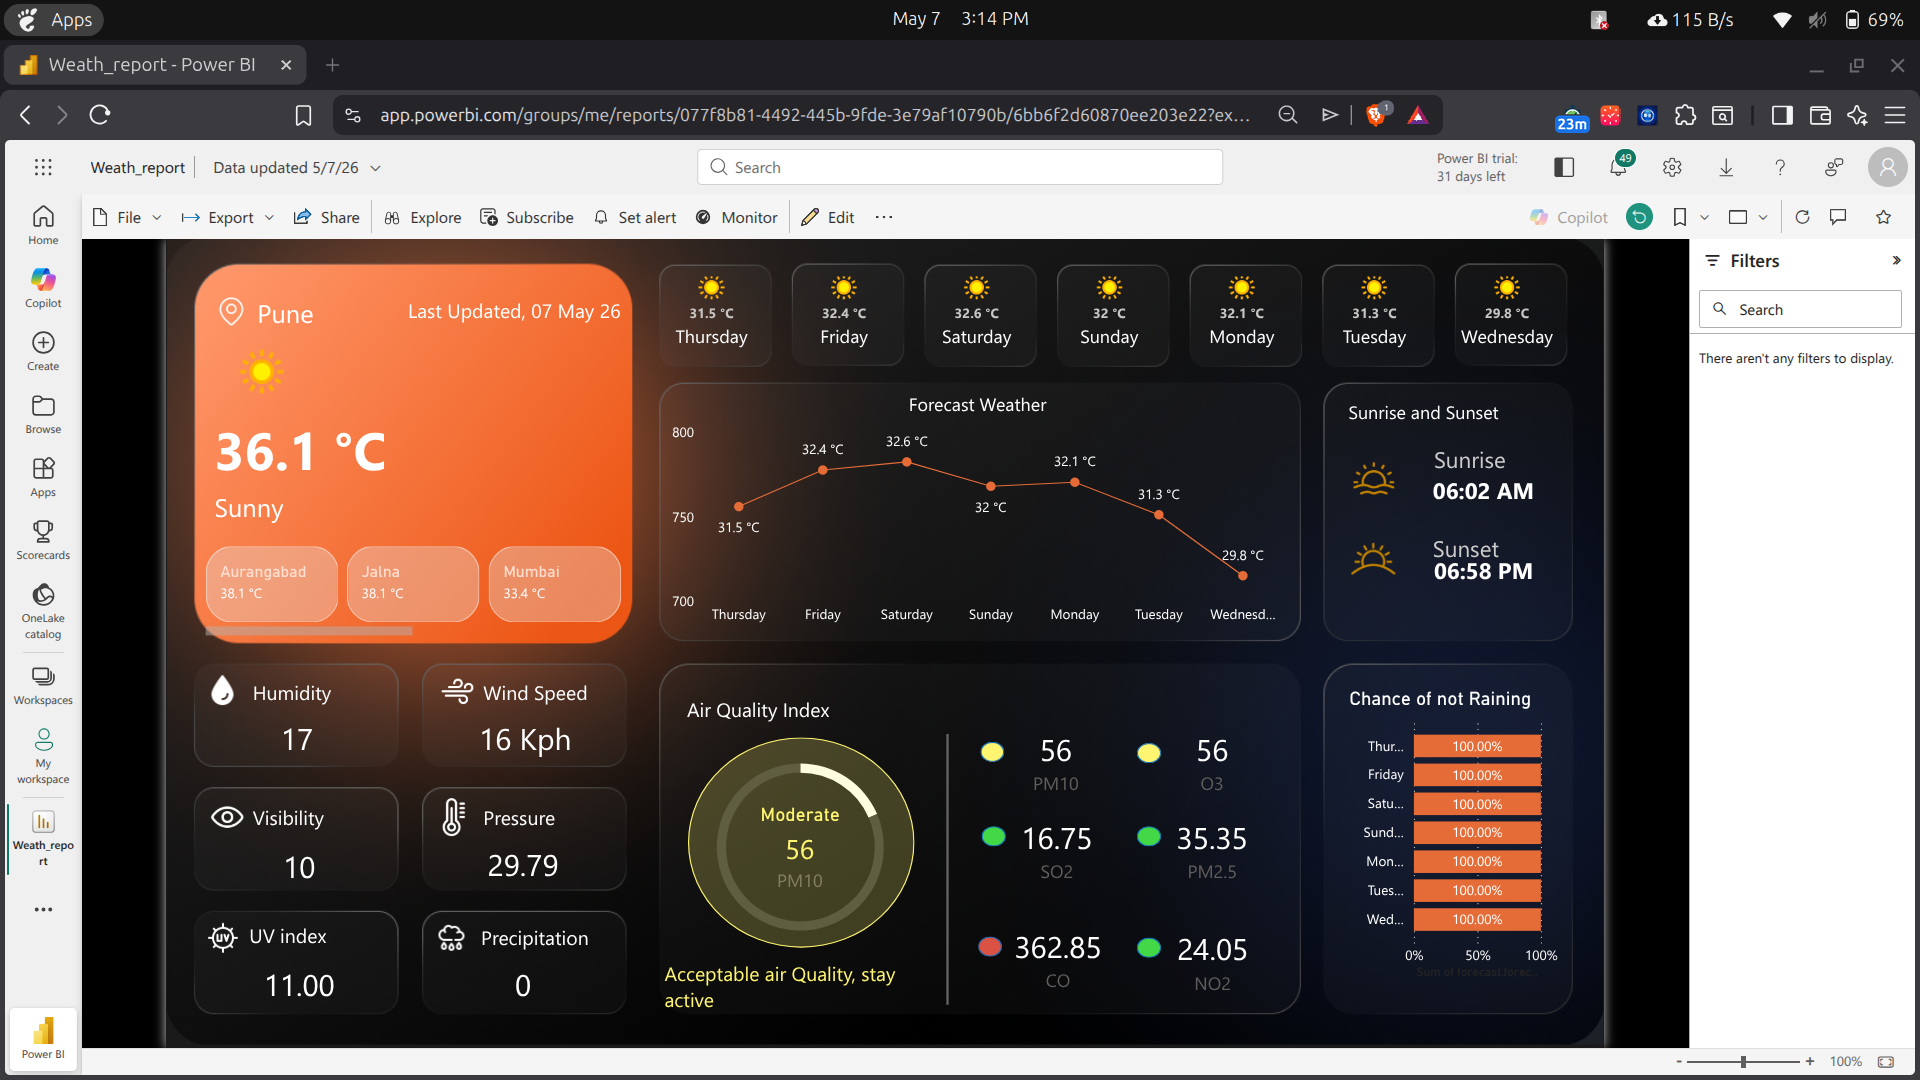

This screenshot's page, from the dashboard's own definition file:
{"tool":"powerbi","page":{"name":"Page 1","canvas":[1280,720],"ordinal":0},"visuals":[{"type":"advancedSlicerVisual","fields":{"Values":["location.location.name"]},"box":[30,268.7,381.4,91.2],"z":0},{"type":"shape","box":[43.2,135.5,217.1,103.2],"z":1000},{"type":"shape","box":[43.2,221.9,166.7,32.4],"z":2000},{"type":"shape","box":[206.3,44.4,207.5,38.4],"z":3000},{"type":"shape","box":[81.6,49.2,141.5,33.6],"z":4000},{"type":"image","box":[34.8,51.6,46.8,25.2],"z":5000},{"type":"cardVisual","fields":{"Data":["Min(Current_data.current.condition.icon)"]},"box":[19.2,66,133.1,104.4],"z":6000},{"type":"image","box":[34.8,497.8,39.6,33.6],"z":7000},{"type":"image","box":[36,385,28.8,32.4],"z":8000},{"type":"image","box":[236.3,387.4,45.6,30],"z":9000},{"type":"image","box":[231.5,497.8,50.4,33.6],"z":10000},{"type":"image","box":[24,608.1,52.8,28.8],"z":11000},{"type":"image","box":[236.3,608.1,36,28.8],"z":12000},{"type":"shape","box":[76.8,385,123.5,34.8],"z":13000},{"type":"shape","box":[281.9,385,123.5,34.8],"z":14000},{"type":"shape","box":[76.8,496.6,123.5,34.8],"z":15000},{"type":"shape","box":[281.9,496.6,123.5,34.8],"z":16000},{"type":"shape","box":[74.4,602.2,123.5,34.8],"z":17000},{"type":"shape","box":[280.7,603.3,123.5,34.8],"z":18000},{"type":"shape","box":[586.6,238.7,217.1,103.2],"z":19000},{"type":"cardVisual","fields":{"Data":["Sum(Current_data.current.humidity)"]},"box":[34.8,417.4,163.1,51.6],"z":20000},{"type":"cardVisual","fields":{"Data":["_Measures.Wind_Speed"]},"box":[236.3,417.4,167.9,51.6],"z":21000},{"type":"cardVisual","fields":{"Data":["Sum(Current_data.current.uv)"]},"box":[37.2,636.9,163.1,51.6],"z":22000},{"type":"cardVisual","fields":{"Data":["Sum(Current_data.current.pressure_in)"]},"box":[236.3,529,163.1,54],"z":23000},{"type":"cardVisual","fields":{"Data":["Sum(Current_data.current.precip_in)"]},"box":[236.3,636.9,163.1,51.6],"z":24000},{"type":"cardVisual","fields":{"Data":["Sum(Current_data.current.vis_km)"]},"box":[37.2,531.4,163.1,51.6],"z":25000},{"type":"advancedSlicerVisual","fields":{"Values":["Forecast_day.Day_Name"]},"box":[425.8,27.4,832.7,88.5],"z":26000},{"type":"lineChart","title":"Forecast Weather","fields":{"Y":["Sum(Forecast_day.forecast.forecastday.day.avgtemp_c)"],"Category":["Forecast_day.Day_Name"]},"box":[444.8,136,555.5,216.1],"z":27000},{"type":"shape","box":[1051.9,136,167.6,34.8],"z":28000},{"type":"shape","box":[1128.3,178,115.9,34.8],"z":29000},{"type":"shape","box":[1127.8,238.1,117,72.7],"z":30000},{"type":"shape","box":[1127.3,200.1,115.9,46.4],"z":31000},{"type":"shape","box":[1127.9,258.3,117,72.7],"z":32000},{"type":"image","box":[1051.9,195,45.3,35.8],"z":33000},{"type":"image","box":[1048.7,258.2,52.7,52.7],"z":34000},{"type":"hundredPercentStackedBarChart","title":"Chance of not Raining","fields":{"Y":["Sum(Forecast_day.forecast.forecastday.astro.is_moon_up)"],"Category":["Forecast_day.Day_Name"]},"box":[1048.7,401.6,195,261.4],"z":35000},{"type":"shape","box":[463.8,400.5,167.6,34.8],"z":36000},{"type":"cardVisual","title":"ihpipi","fields":{"Data":["Sum(Current_data.current.air_quality.o3)"]},"box":[862.5,426.1,138.7,78.9],"z":37000},{"type":"cardVisual","title":"ihpipi","fields":{"Data":["Sum(Current_data.current.air_quality.no2)"]},"box":[862.4,603.3,139.1,79.2],"z":38000},{"type":"cardVisual","title":"ihpipi","fields":{"Data":["Sum(Current_data.current.air_quality.pm2_5)"]},"box":[862.5,505,138.7,78.9],"z":39000},{"type":"cardVisual","title":"ihpipi","fields":{"Data":["Sum(Current_data.current.air_quality.pm10)"]},"box":[722.5,426.1,138.7,78.9],"z":40000},{"type":"cardVisual","title":"ihpipi","fields":{"Data":["Sum(Current_data.current.air_quality.so2)"]},"box":[723.8,505,138.7,78.9],"z":41000},{"type":"cardVisual","title":"ihpipi","fields":{"Data":["Sum(Current_data.current.air_quality.co)"]},"box":[725.1,601.7,138.7,78.9],"z":42000},{"type":"shape","box":[723,620.8,21.1,17.9],"z":43000},{"type":"shape","box":[725.2,448,21.1,17.9],"z":44000},{"type":"shape","box":[725.7,523,21.6,18],"z":45000},{"type":"shape","box":[863.6,448.6,21.6,18],"z":46000},{"type":"shape","box":[863.6,523,21.6,18],"z":47000},{"type":"shape","box":[863.6,621.3,21.6,18],"z":48000},{"type":"shape","box":[618.9,440.2,153.5,241.1],"z":49000},{"type":"cardVisual","fields":{"Data":["Sum(Current_data.current.air_quality.pm10)"]},"box":[495.4,505,137.9,78],"z":50000},{"type":"donutChart","title":"ihpipi","fields":{"Y":["Sum(Current_data.current.air_quality.pm10)","_Measures.Left_value_PM10"]},"box":[471.4,447.4,185.9,187.1],"z":51000},{"type":"shape","box":[464.2,443.8,201.5,187.1],"z":52000},{"type":"shape","box":[443.8,639.3,241.1,50.4],"z":53000}]}

Visuals, with their boxes on the page's 1280x720 design canvas (x1, y1, x2, y2). These are canvas units, not pixel positions in the 1920x1080 screenshot, which may show the page scaled, cropped or inside an application window:
advancedSlicerVisual - location.location.name: select_region(30, 269, 411, 360)
shape: select_region(43, 136, 260, 239)
shape: select_region(43, 222, 210, 254)
shape: select_region(206, 44, 414, 83)
shape: select_region(82, 49, 223, 83)
image: select_region(35, 52, 82, 77)
cardVisual - Min(Current_data.current.condition.icon): select_region(19, 66, 152, 170)
image: select_region(35, 498, 74, 531)
image: select_region(36, 385, 65, 417)
image: select_region(236, 387, 282, 417)
image: select_region(232, 498, 282, 531)
image: select_region(24, 608, 77, 637)
image: select_region(236, 608, 272, 637)
shape: select_region(77, 385, 200, 420)
shape: select_region(282, 385, 405, 420)
shape: select_region(77, 497, 200, 531)
shape: select_region(282, 497, 405, 531)
shape: select_region(74, 602, 198, 637)
shape: select_region(281, 603, 404, 638)
shape: select_region(587, 239, 804, 342)
cardVisual - Sum(Current_data.current.humidity): select_region(35, 417, 198, 469)
cardVisual - _Measures.Wind_Speed: select_region(236, 417, 404, 469)
cardVisual - Sum(Current_data.current.uv): select_region(37, 637, 200, 688)
cardVisual - Sum(Current_data.current.pressure_in): select_region(236, 529, 399, 583)
cardVisual - Sum(Current_data.current.precip_in): select_region(236, 637, 399, 688)
cardVisual - Sum(Current_data.current.vis_km): select_region(37, 531, 200, 583)
advancedSlicerVisual - Forecast_day.Day_Name: select_region(426, 27, 1258, 116)
"Forecast Weather" lineChart: select_region(445, 136, 1000, 352)
shape: select_region(1052, 136, 1220, 171)
shape: select_region(1128, 178, 1244, 213)
shape: select_region(1128, 238, 1245, 311)
shape: select_region(1127, 200, 1243, 246)
shape: select_region(1128, 258, 1245, 331)
image: select_region(1052, 195, 1097, 231)
image: select_region(1049, 258, 1101, 311)
"Chance of not Raining" hundredPercentStackedBarChart: select_region(1049, 402, 1244, 663)
shape: select_region(464, 400, 631, 435)
"ihpipi" cardVisual: select_region(862, 426, 1001, 505)
"ihpipi" cardVisual: select_region(862, 603, 1002, 682)
"ihpipi" cardVisual: select_region(862, 505, 1001, 584)
"ihpipi" cardVisual: select_region(722, 426, 861, 505)
"ihpipi" cardVisual: select_region(724, 505, 862, 584)
"ihpipi" cardVisual: select_region(725, 602, 864, 681)
shape: select_region(723, 621, 744, 639)
shape: select_region(725, 448, 746, 466)
shape: select_region(726, 523, 747, 541)
shape: select_region(864, 449, 885, 467)
shape: select_region(864, 523, 885, 541)
shape: select_region(864, 621, 885, 639)
shape: select_region(619, 440, 772, 681)
cardVisual - Sum(Current_data.current.air_quality.pm10): select_region(495, 505, 633, 583)
"ihpipi" donutChart: select_region(471, 447, 657, 634)
shape: select_region(464, 444, 666, 631)
shape: select_region(444, 639, 685, 690)
